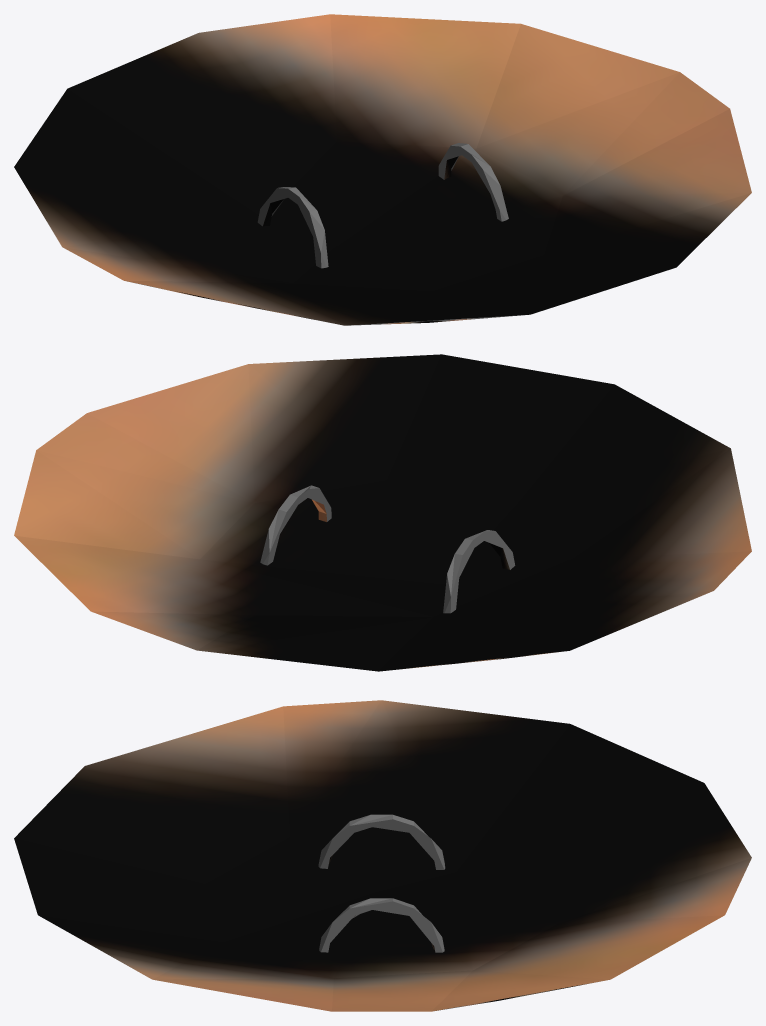
Rendered from snakeshield_wtf.obj.
3 renders of one model, top to bottom at view 1: azimuth 30°, elevation 25°; view 2: azimuth 150°, elevation 25°; view 3: azimuth 270°, elevation 25°, orthographic. The views are drawn at different scales.
Parts seen in each view (by area): view 1: group1; view 2: group1; view 3: group1.
Part boxes in pixels (bbox=[...]): group1: bbox=[14, 14, 751, 325]; group1: bbox=[14, 354, 751, 671]; group1: bbox=[14, 700, 751, 1011].
Bounding box in the file's own units: 659 × 69.21 × 660.
